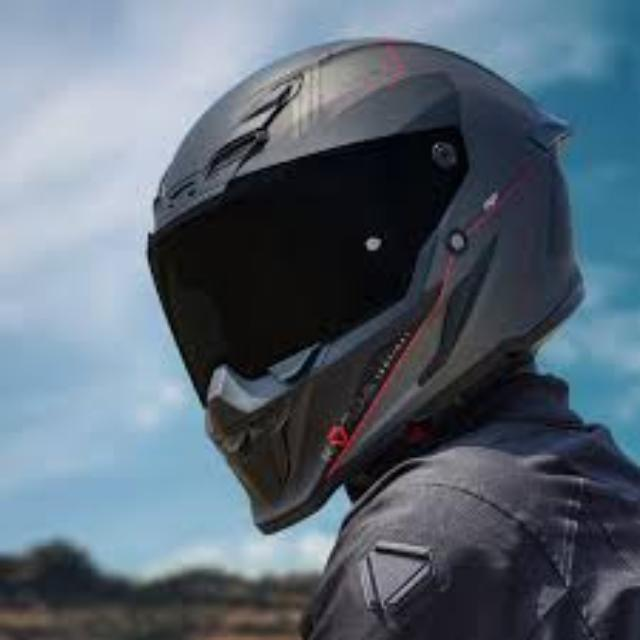motorcycle-helmets: (151, 40, 580, 532)
